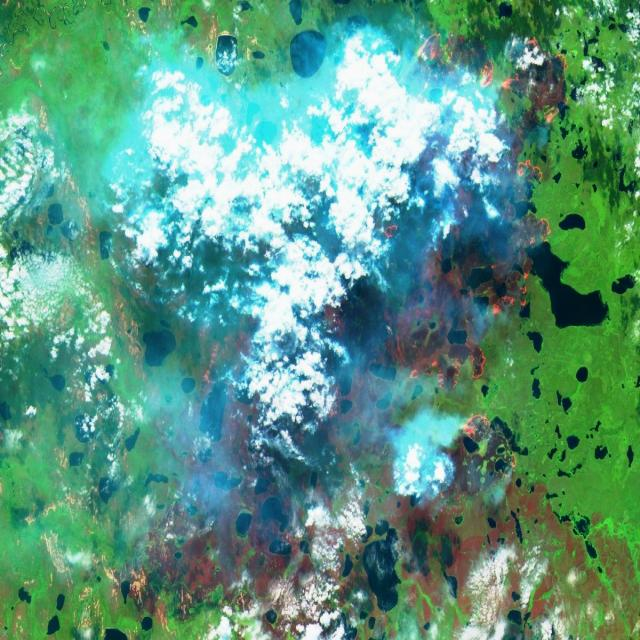fire: (242, 0, 577, 501)
